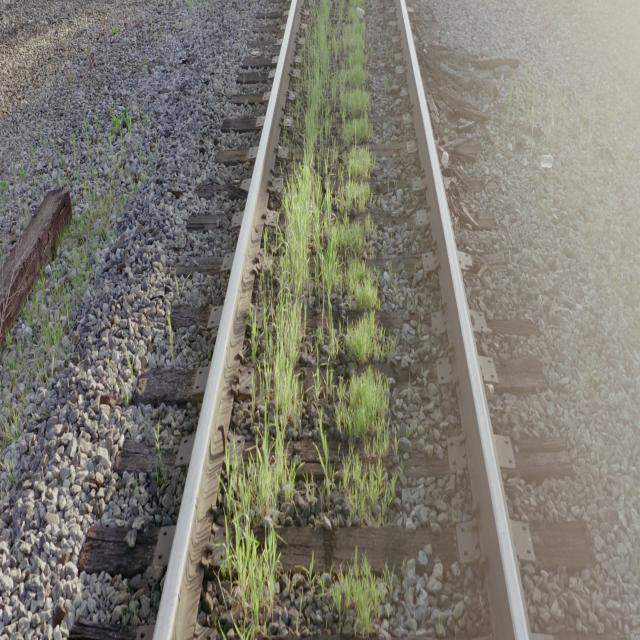Plant: (221, 2, 395, 638), (226, 511, 279, 638), (331, 560, 388, 636), (281, 407, 282, 411), (261, 562, 262, 564)
